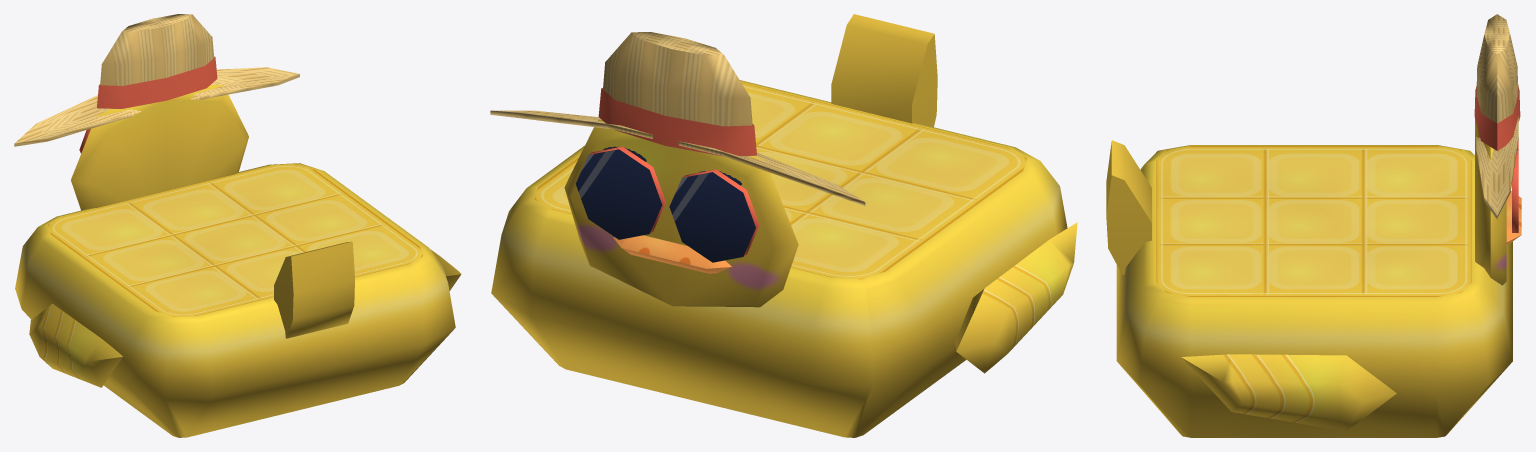
Rendered from pool_duck_summer_lod1.glb.
3 renders of one model, left to right at view 1: azimuth 30°, elevation 25°; view 2: azimuth 150°, elevation 25°; view 3: azimuth 270°, elevation 25°, orthographic. The views are drawn at different scales.
Visible parts, largest first — view 1: pool_duck_summer_LOD1; view 2: pool_duck_summer_LOD1; view 3: pool_duck_summer_LOD1.
Part boxes in pixels (x1,y1,x2,y2): pool_duck_summer_LOD1: [14, 14, 461, 437]; pool_duck_summer_LOD1: [490, 14, 1077, 437]; pool_duck_summer_LOD1: [1106, 14, 1521, 437].
Bounding box in the file's own units: 12 × 9 × 10.
Materials: 1 (1 with a texture image).
